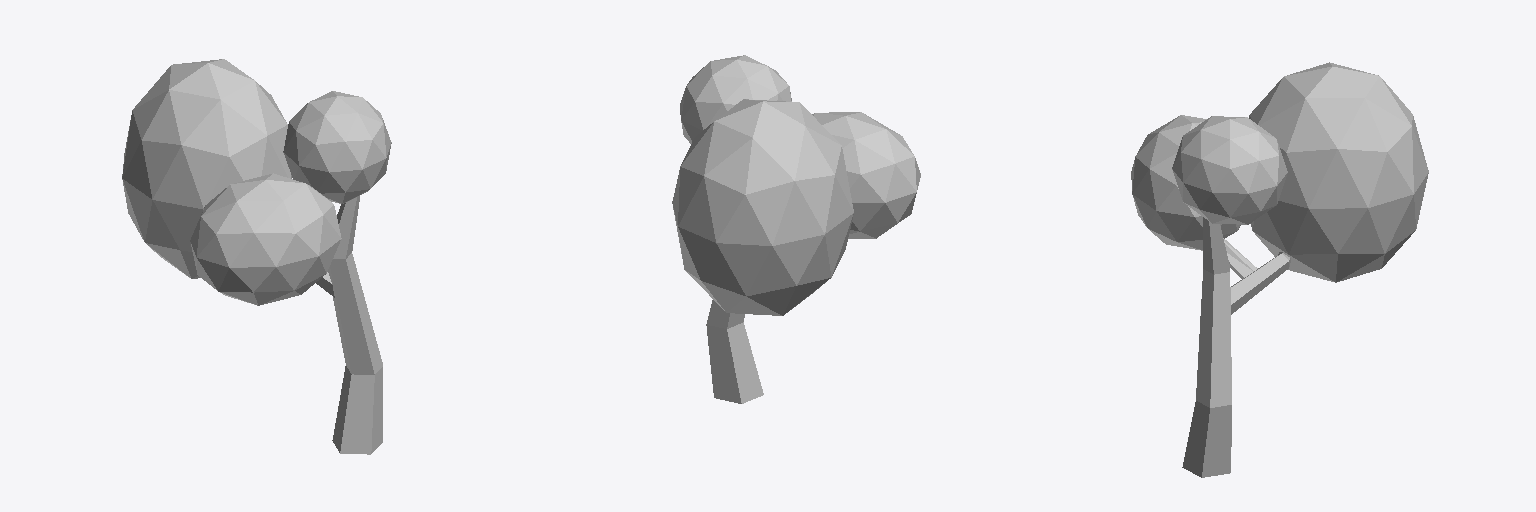
The model's file is Bush2.obj.
3 views of the same model, side by side, from view 1: azimuth 30°, elevation 25°; view 2: azimuth 150°, elevation 25°; view 3: azimuth 270°, elevation 25° (orthographic).
Visible parts, largest first — view 1: Cylinder.007; view 2: Cylinder.007; view 3: Cylinder.007.
Part boxes in pixels (bbox=[...]): Cylinder.007: bbox=[122, 59, 391, 454]; Cylinder.007: bbox=[672, 55, 920, 403]; Cylinder.007: bbox=[1131, 62, 1428, 477].
Size of the model in its own units: 2.71 by 4.45 by 3.36.